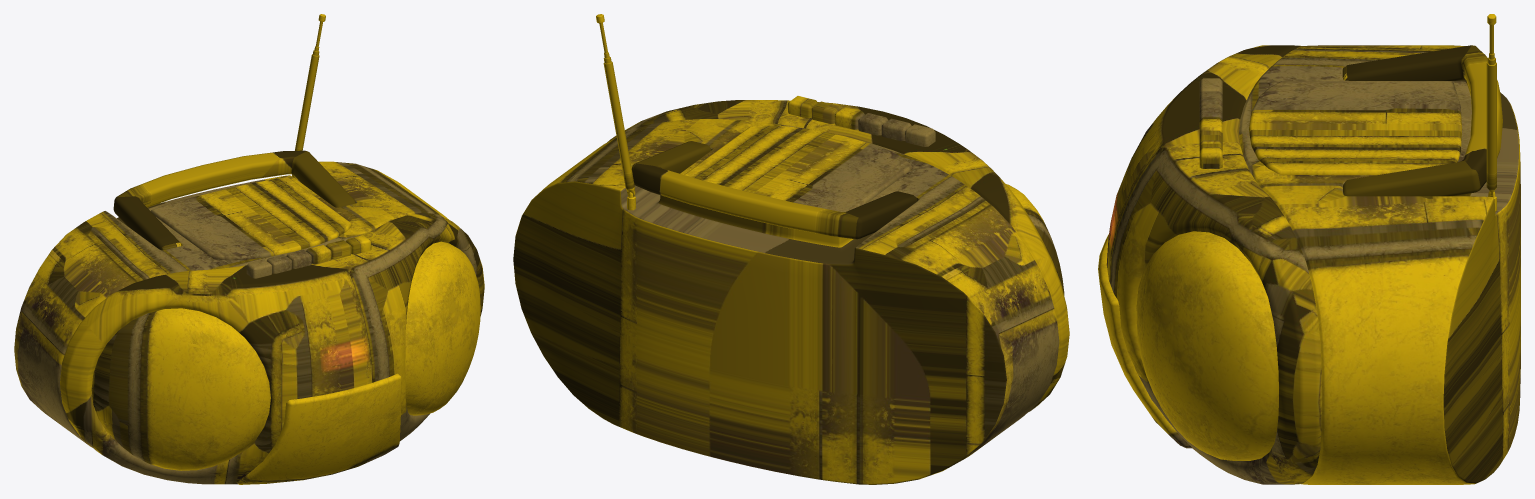
File: CDPlayer.fbx
The picture shows the model from 3 angles, left to right: view 1: azimuth 30°, elevation 25°; view 2: azimuth 150°, elevation 25°; view 3: azimuth 270°, elevation 25°; orthographic projection. The views are drawn at different scales.
Parts seen in each view (by area): view 1: Object_2, Object_2.001; view 2: Object_2, Object_2.001; view 3: Object_2, Object_2.001.
Boxes of the visible parts, <box> form: Object_2: <box>14,14,484,484</box>; Object_2.001: <box>150,177,352,260</box>; Object_2: <box>513,14,1069,484</box>; Object_2.001: <box>684,125,912,211</box>; Object_2: <box>1098,14,1520,484</box>; Object_2.001: <box>1249,81,1462,175</box>.
Bounding box in the file's own units: 4215 × 3288 × 2725.
